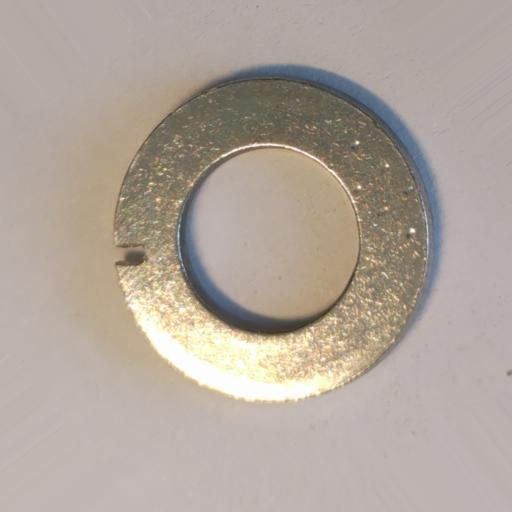burr: (113, 243, 150, 269)
